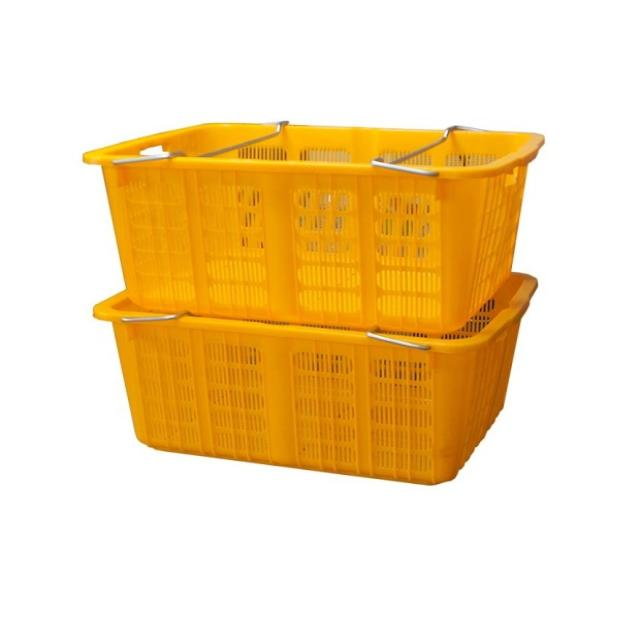basket: (87, 256, 538, 489), (77, 114, 544, 338)
